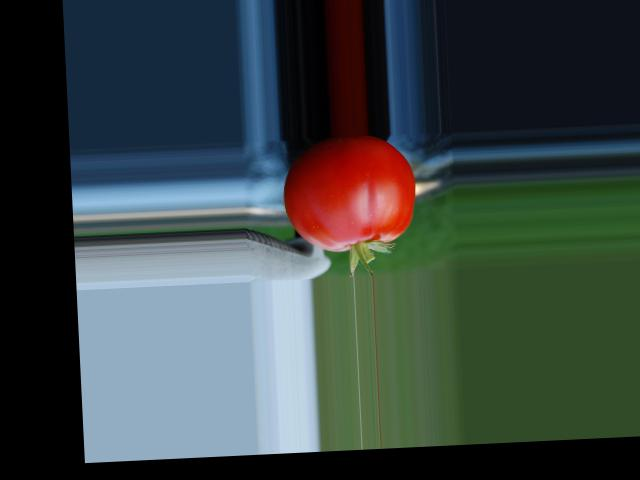tomato: (281, 132, 418, 254)
